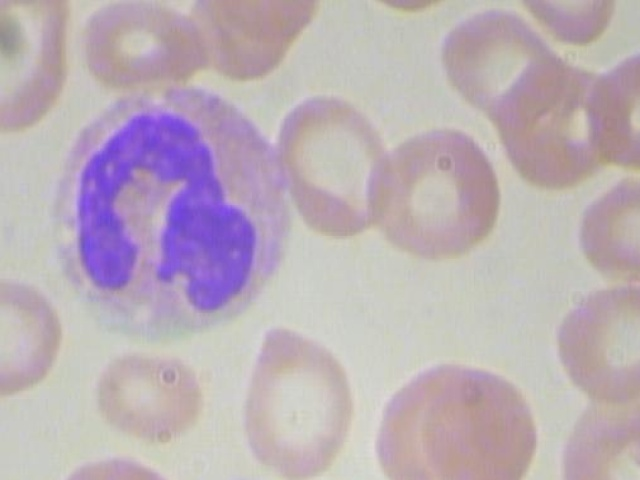Platelets: (208, 468, 267, 480)
RBC: (266, 86, 402, 251), (365, 119, 507, 263), (418, 0, 568, 134), (238, 323, 360, 480), (423, 348, 547, 480), (75, 0, 217, 94), (88, 344, 212, 451), (549, 272, 640, 410), (0, 0, 80, 138), (566, 162, 640, 304), (0, 260, 73, 400), (556, 383, 640, 480), (583, 42, 640, 176), (204, 0, 329, 50), (500, 0, 621, 50), (48, 443, 201, 480)
WBC: (45, 78, 298, 344)
